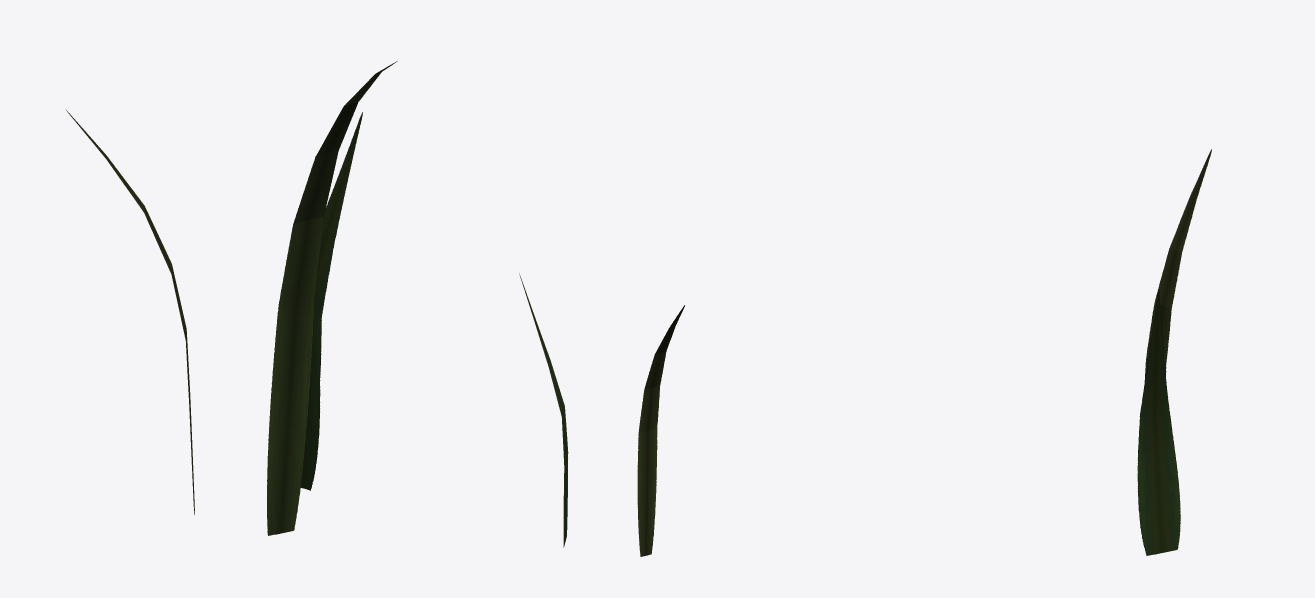
The model's file is grass.fbx.
3 renders of one model, left to right at view 1: azimuth 30°, elevation 25°; view 2: azimuth 150°, elevation 25°; view 3: azimuth 270°, elevation 25°, orthographic. The views are drawn at different scales.
Visible parts, largest first — view 1: Grass; view 2: Grass; view 3: Grass.
Boxes of the visible parts, left/top/right/bottom form: Grass: left=66, top=61, right=397, bottom=535; Grass: left=519, top=274, right=684, bottom=556; Grass: left=1137, top=149, right=1211, bottom=555.
Size of the model in its own units: 1.5 by 2.37 by 1.91.
Materials: 1 (1 with a texture image).
